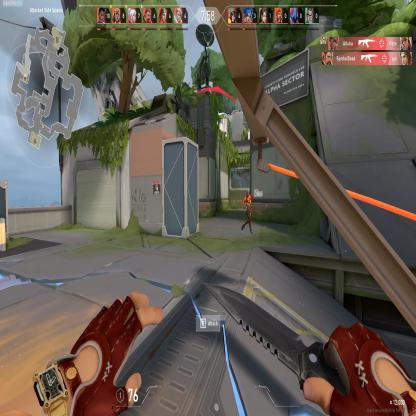enemy: (240, 186, 254, 235)
